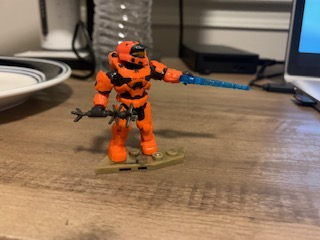spartan: (93, 41, 194, 166)
